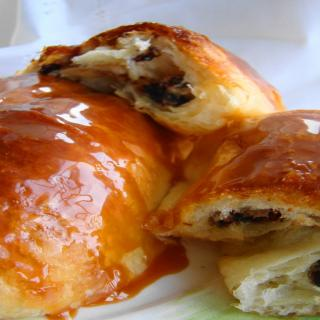Bread: (0, 72, 168, 316), (20, 20, 286, 135), (143, 110, 320, 236)
Croissant: (1, 12, 320, 319)
